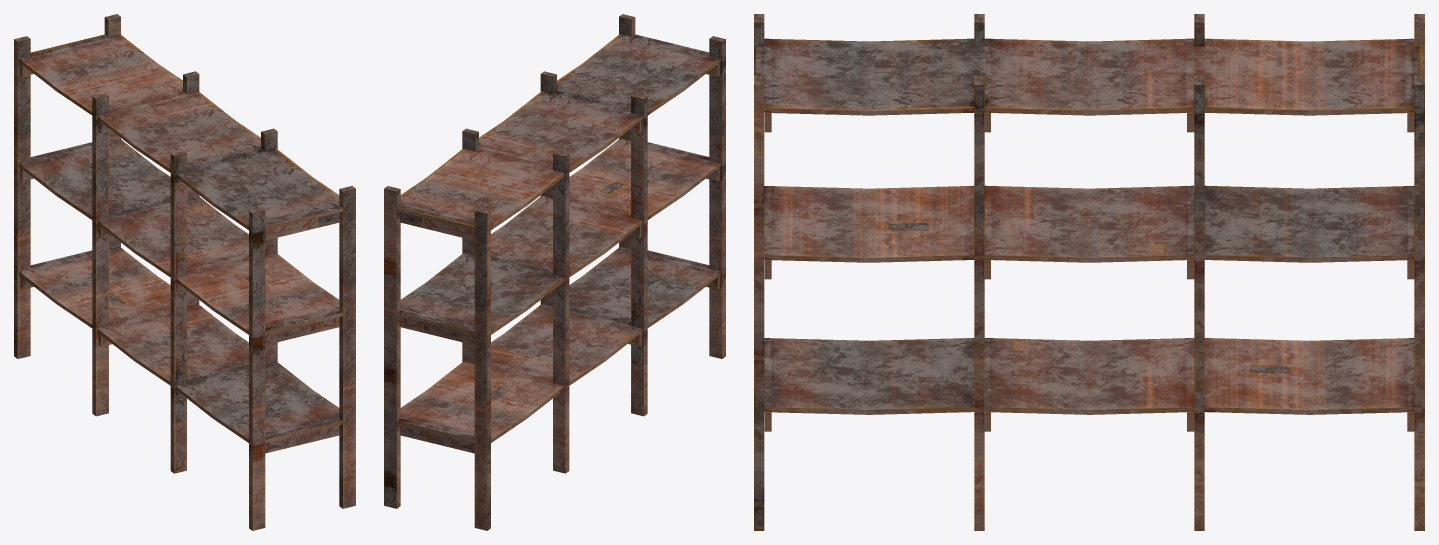
3 renders of one model, left to right at view 1: azimuth 30°, elevation 25°; view 2: azimuth 150°, elevation 25°; view 3: azimuth 270°, elevation 25°, orthographic. The views are drawn at different scales.
Parts seen in each view (by area): view 1: body_zp_sh; view 2: body_zp_sh; view 3: body_zp_sh.
Boxes of the visible parts, left/top/right/bottom form: body_zp_sh: left=14, top=14, right=355, bottom=530; body_zp_sh: left=384, top=14, right=725, bottom=530; body_zp_sh: left=754, top=14, right=1424, bottom=530.
Size of the model in its own units: 9.78 by 28.7 by 39.1.
Materials: 1 (1 with a texture image).
